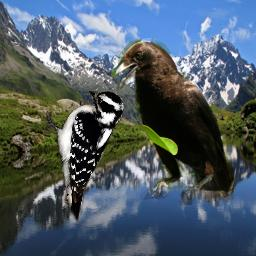Crow: (111, 38, 234, 205)
Woodpecker: (44, 91, 124, 225)
